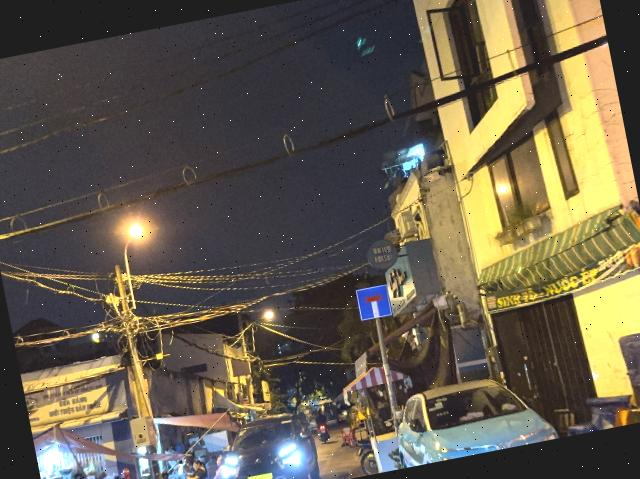duong-cut: (355, 283, 392, 321)
